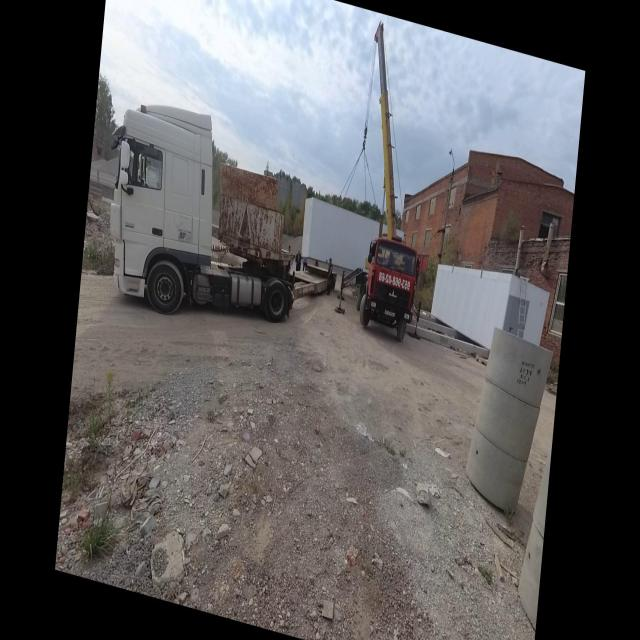crane: (331, 14, 450, 350)
